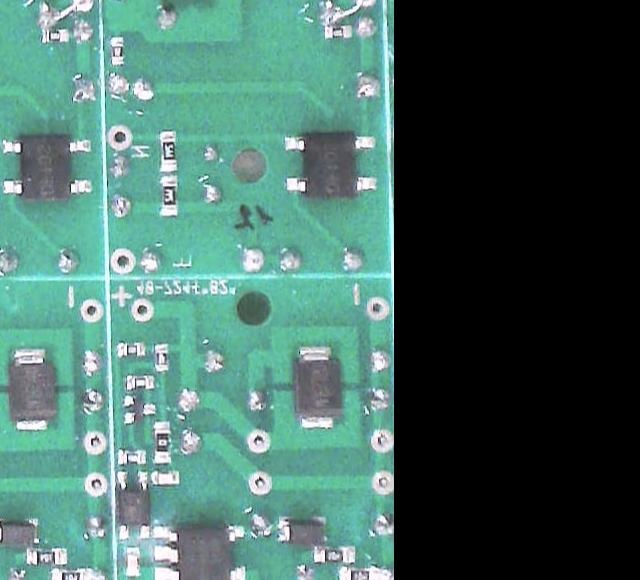chip-capacitor: (127, 547, 141, 576), (152, 471, 180, 484)
chip-resistor: (155, 421, 172, 462), (316, 546, 355, 563), (29, 548, 67, 565), (162, 176, 178, 215), (161, 131, 177, 169), (340, 566, 376, 580), (52, 568, 91, 580), (118, 341, 146, 355), (126, 375, 154, 389), (119, 448, 145, 463), (155, 343, 169, 370), (325, 24, 352, 37), (43, 29, 69, 42), (112, 36, 124, 64)
diode: (8, 348, 57, 431), (294, 344, 342, 428), (279, 515, 326, 544), (0, 519, 40, 544)
ic: (284, 131, 376, 197), (2, 134, 93, 199), (153, 522, 249, 580), (118, 470, 150, 537)
transistor: (124, 394, 156, 422)
